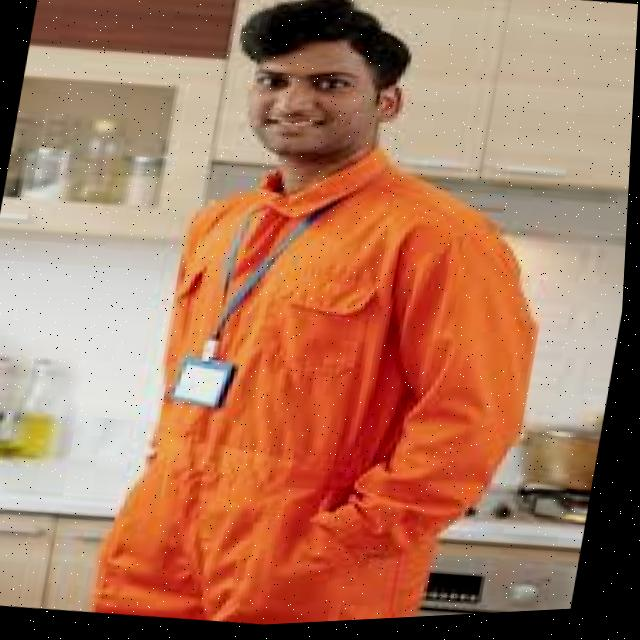id_card: (169, 190, 313, 427)
